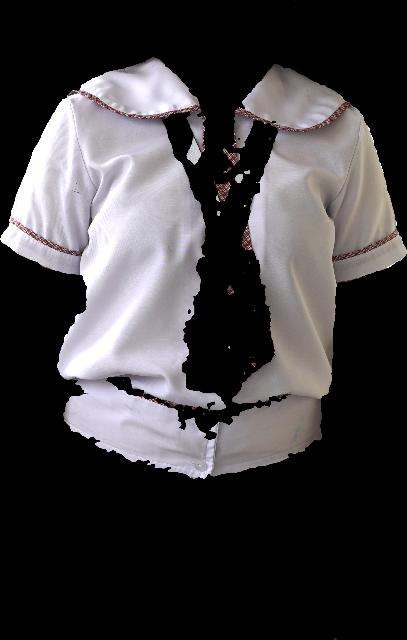pologirl: (1, 58, 406, 478)
